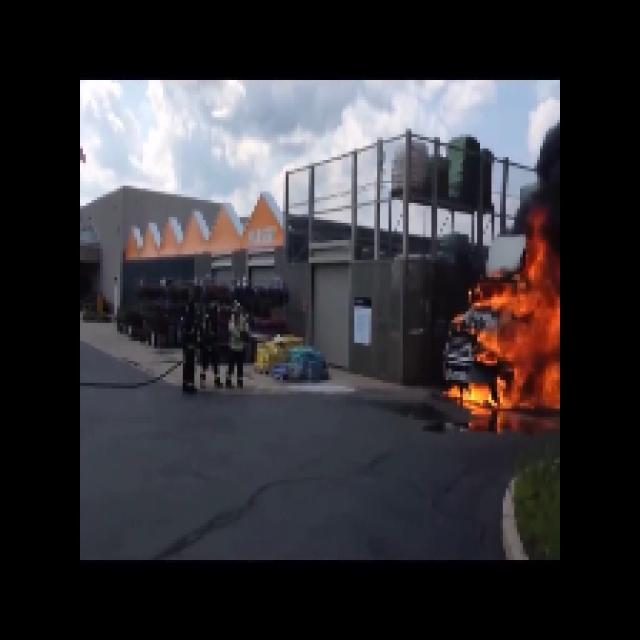Fire: (475, 271, 562, 425)
Smoke: (533, 136, 558, 230)
